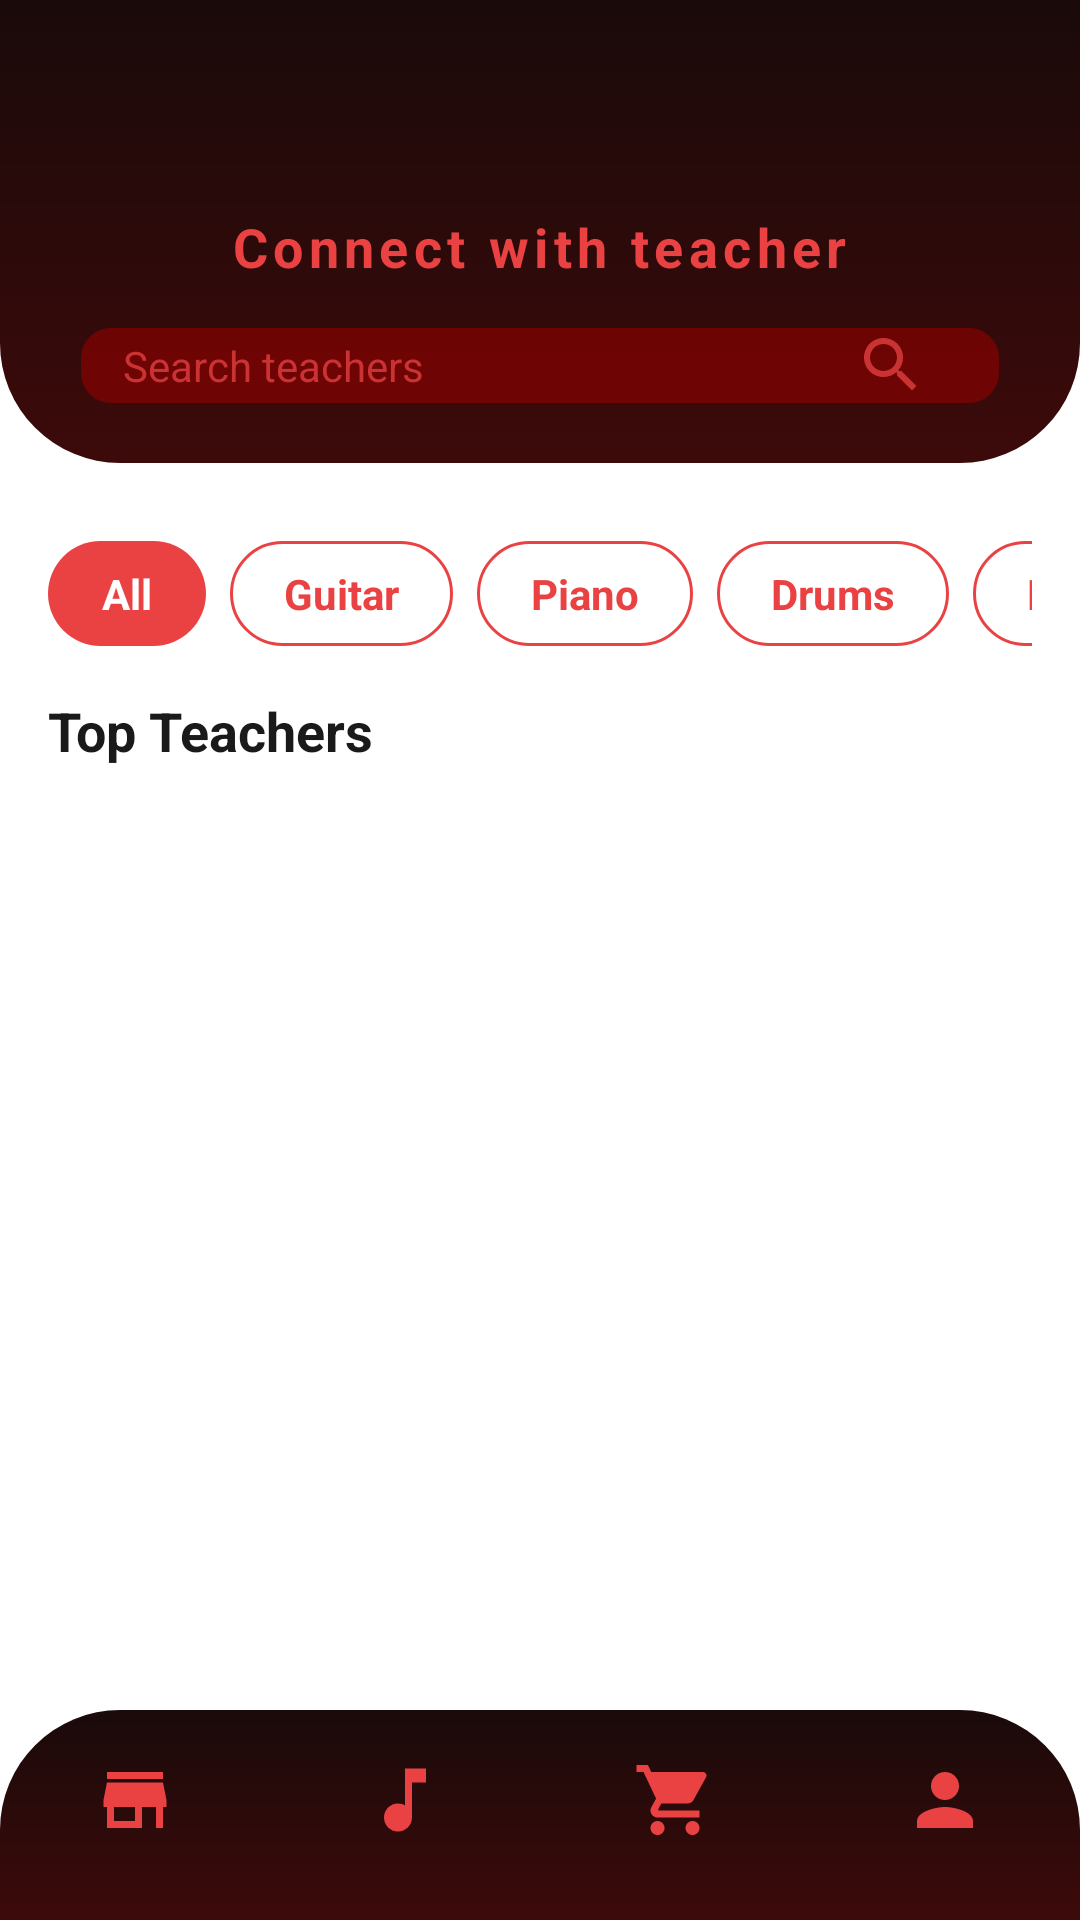

Named icons in this screenshot (1080 x 1920) and their centers, (x=x, y=y):
cart: (x=671, y=1800)
lessons: (x=405, y=1800)
profile: (x=945, y=1800)
shop: (x=135, y=1800)
